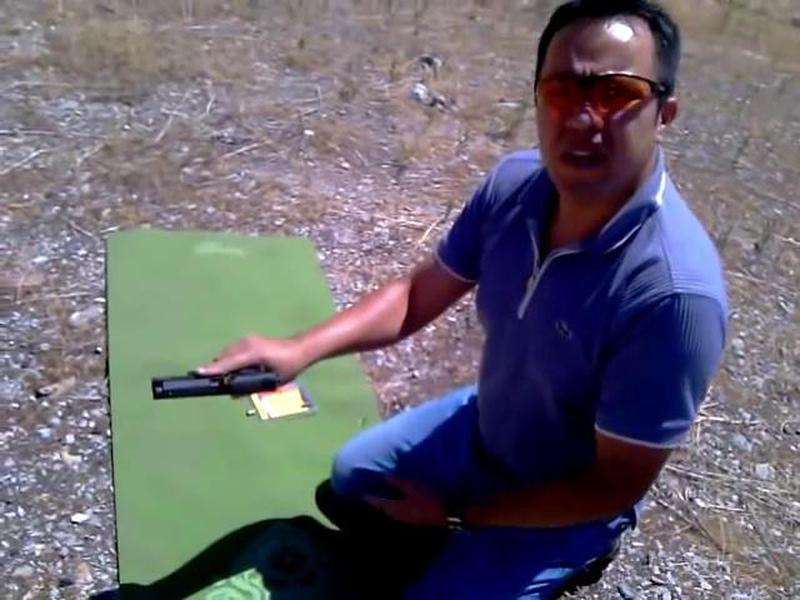Pistola: (141, 346, 294, 418)
